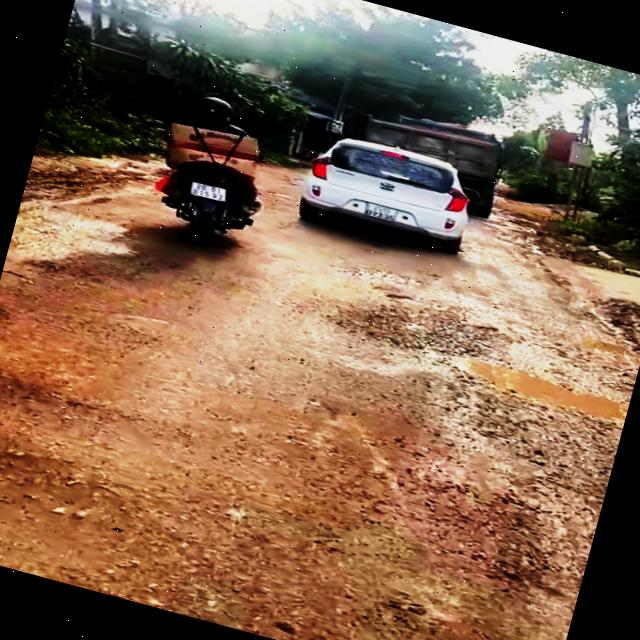pothole: (321, 270, 640, 429), (0, 426, 165, 601)
